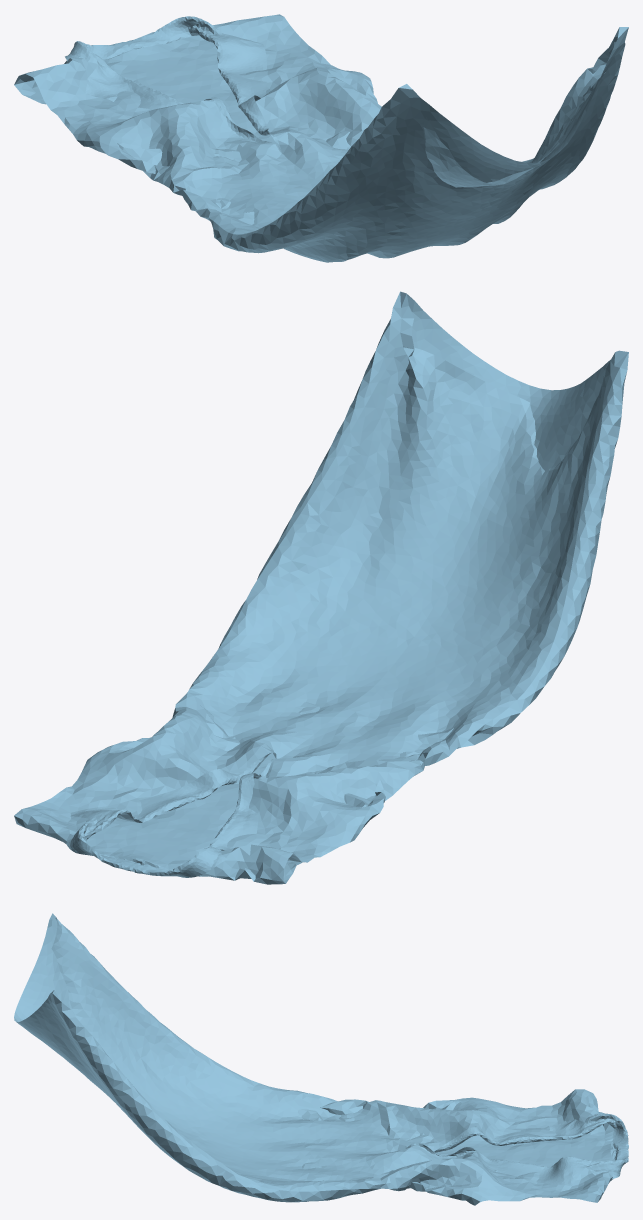
Rendered from frame_04.glb.
3 views of the same model, one above another, from view 1: azimuth 30°, elevation 25°; view 2: azimuth 150°, elevation 25°; view 3: azimuth 270°, elevation 25° (orthographic). The views are drawn at different scales.
Visible parts, largest first — view 1: frame_04.obj; view 2: frame_04.obj; view 3: frame_04.obj.
Boxes of the visible parts, x1,y1,x2,y2 form: frame_04.obj: [14, 14, 628, 262]; frame_04.obj: [14, 291, 628, 884]; frame_04.obj: [14, 913, 628, 1205].
Bounding box in the file's own units: 0.6576 × 0.5719 × 1.54.
